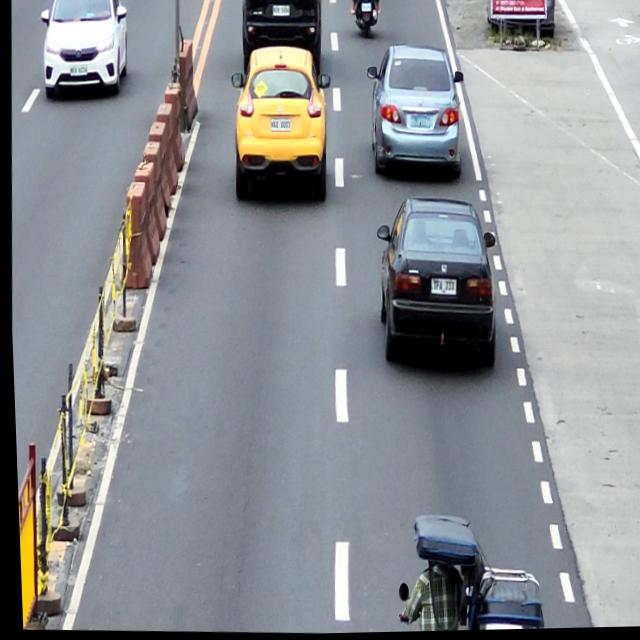Car: (370, 195, 500, 374), (224, 44, 334, 209), (362, 45, 466, 185), (38, 0, 130, 101), (239, 0, 323, 79)
License-Plate: (427, 280, 455, 297), (409, 113, 430, 129), (269, 120, 290, 132), (271, 5, 290, 18), (67, 65, 87, 76)
